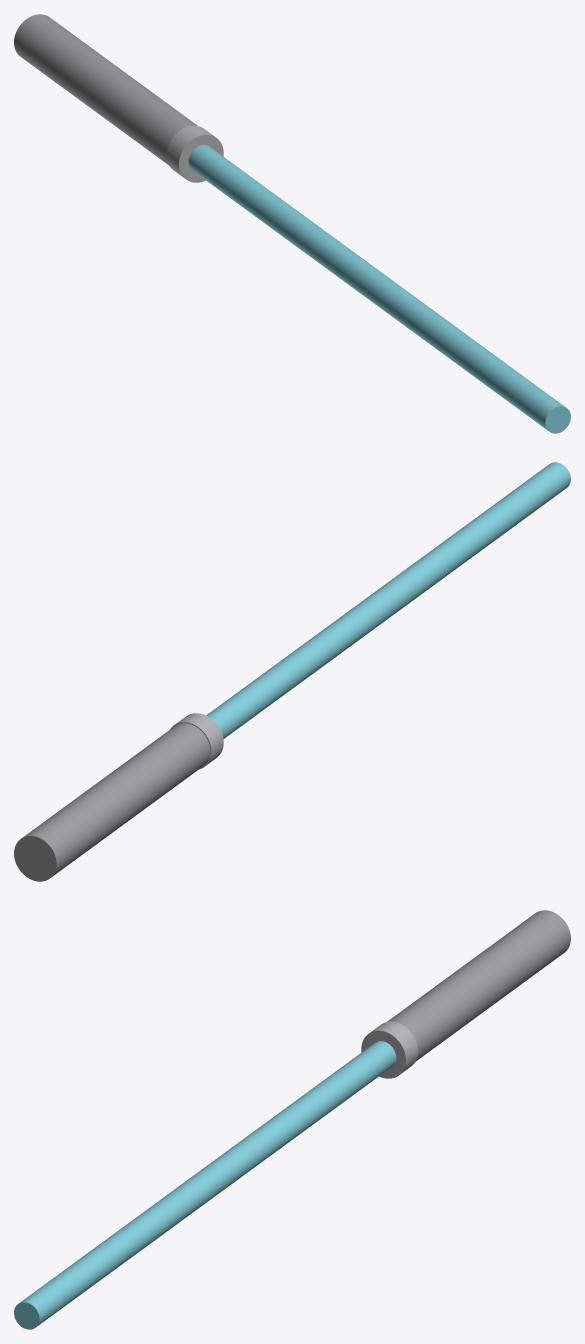
File: lightsaber1.glb
The picture shows the model from 3 angles, top to bottom: view 1: azimuth 30°, elevation 25°; view 2: azimuth 150°, elevation 25°; view 3: azimuth 330°, elevation 25°; orthographic projection.
Visible parts, largest first — view 1: blade, handle, emitter; view 2: blade, handle, emitter; view 3: blade, handle, emitter.
Boxes of the visible parts, box(x1,y1,x2,y2) form: blade: box(188, 145, 570, 433); handle: box(14, 14, 197, 165); emitter: box(166, 125, 223, 182); blade: box(206, 462, 570, 738); handle: box(14, 723, 210, 881); emitter: box(170, 713, 223, 769); blade: box(14, 1041, 396, 1329); handle: box(387, 910, 570, 1061); emitter: box(361, 1021, 418, 1078).
Bounding box in the file's own units: 0.042 × 0.042 × 0.85.
